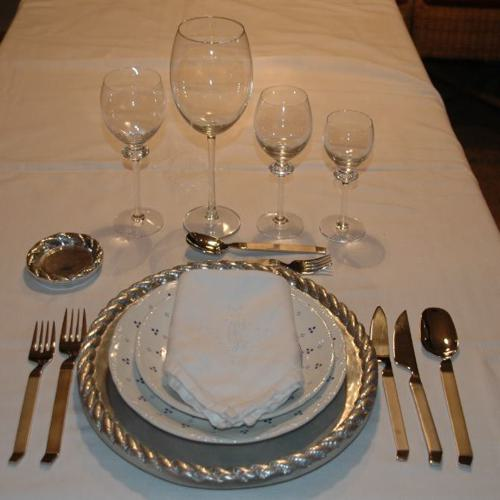copa: (171, 17, 255, 243), (102, 69, 167, 239), (253, 84, 313, 244), (323, 111, 373, 245)
